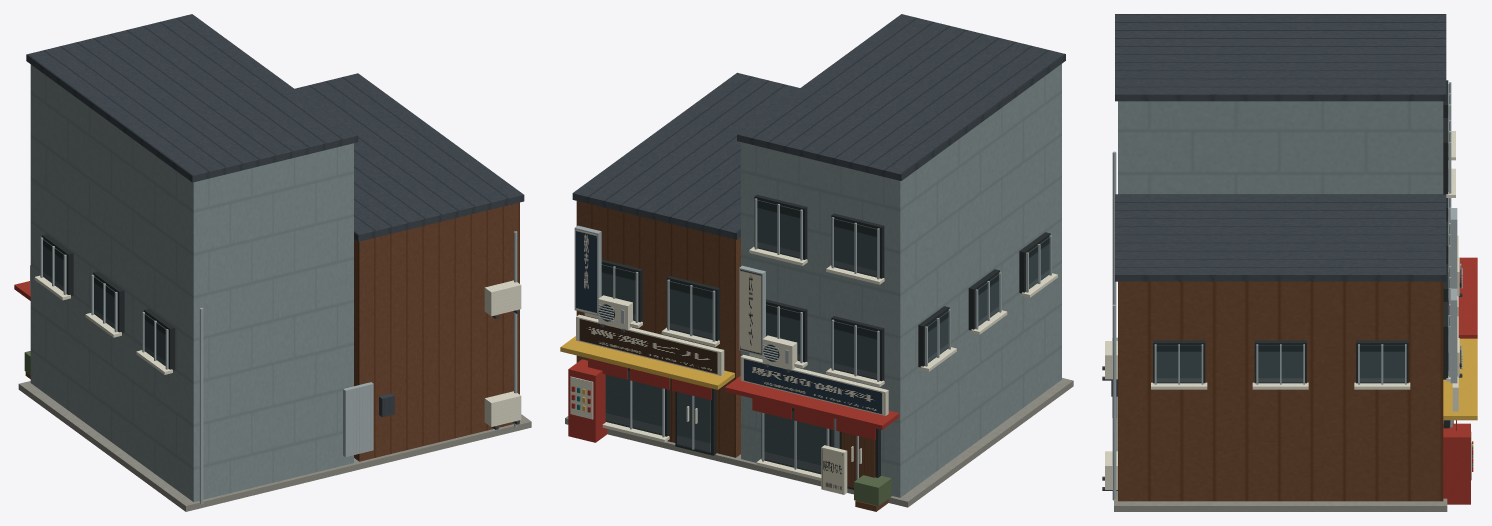
File: shop_010.obj
The picture shows the model from 3 angles, left to right: view 1: azimuth 30°, elevation 25°; view 2: azimuth 150°, elevation 25°; view 3: azimuth 270°, elevation 25°; orthographic projection.
Visible parts, largest first — view 1: shop_010; view 2: shop_010; view 3: shop_010.
Boxes of the visible parts, x1,y1,x2,y2 form: shop_010: (14,14,531,511); shop_010: (560,14,1073,511); shop_010: (1102,14,1477,511).
Bounding box in the file's own units: 9.96 × 9.04 × 9.23.
Materials: 1 (1 with a texture image).
